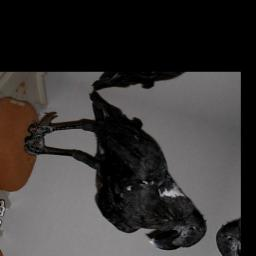Crow: (4, 78, 235, 256)
